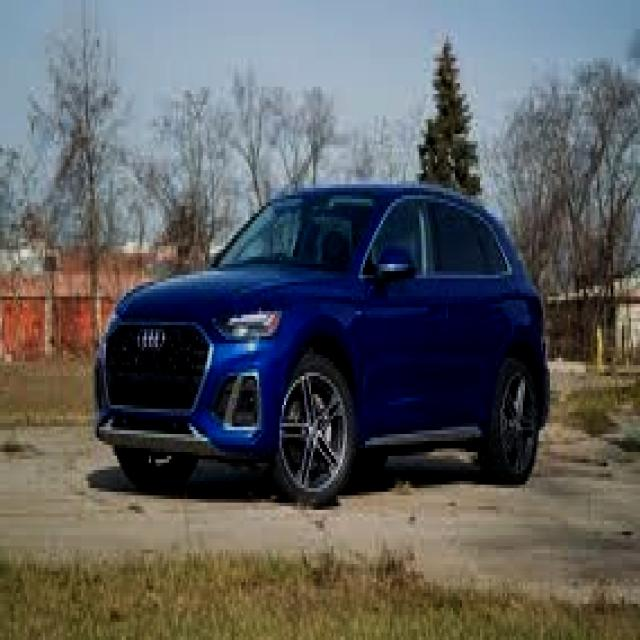blue: (96, 183, 550, 487)
